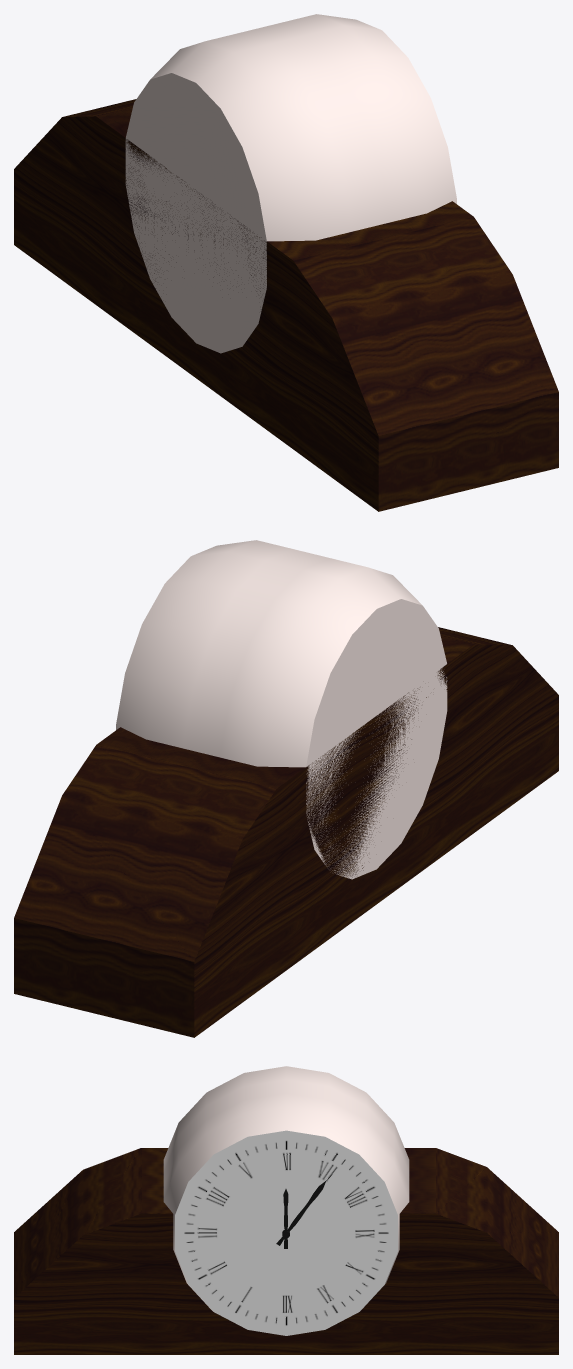
File: FireplaceClock.FBX
3 renders of one model, top to bottom at view 1: azimuth 30°, elevation 25°; view 2: azimuth 150°, elevation 25°; view 3: azimuth 270°, elevation 25°, orthographic. The views are drawn at different scales.
Parts seen in each view (by area): view 1: Box001; view 2: Box001; view 3: Box001.
Boxes of the visible parts, x1,y1,x2,y2 form: Box001: (14, 14, 558, 511); Box001: (14, 540, 558, 1037); Box001: (14, 1066, 558, 1354).
Size of the model in its own units: 4.18 by 6.6 by 13.78.
4 materials, 2 textured.
